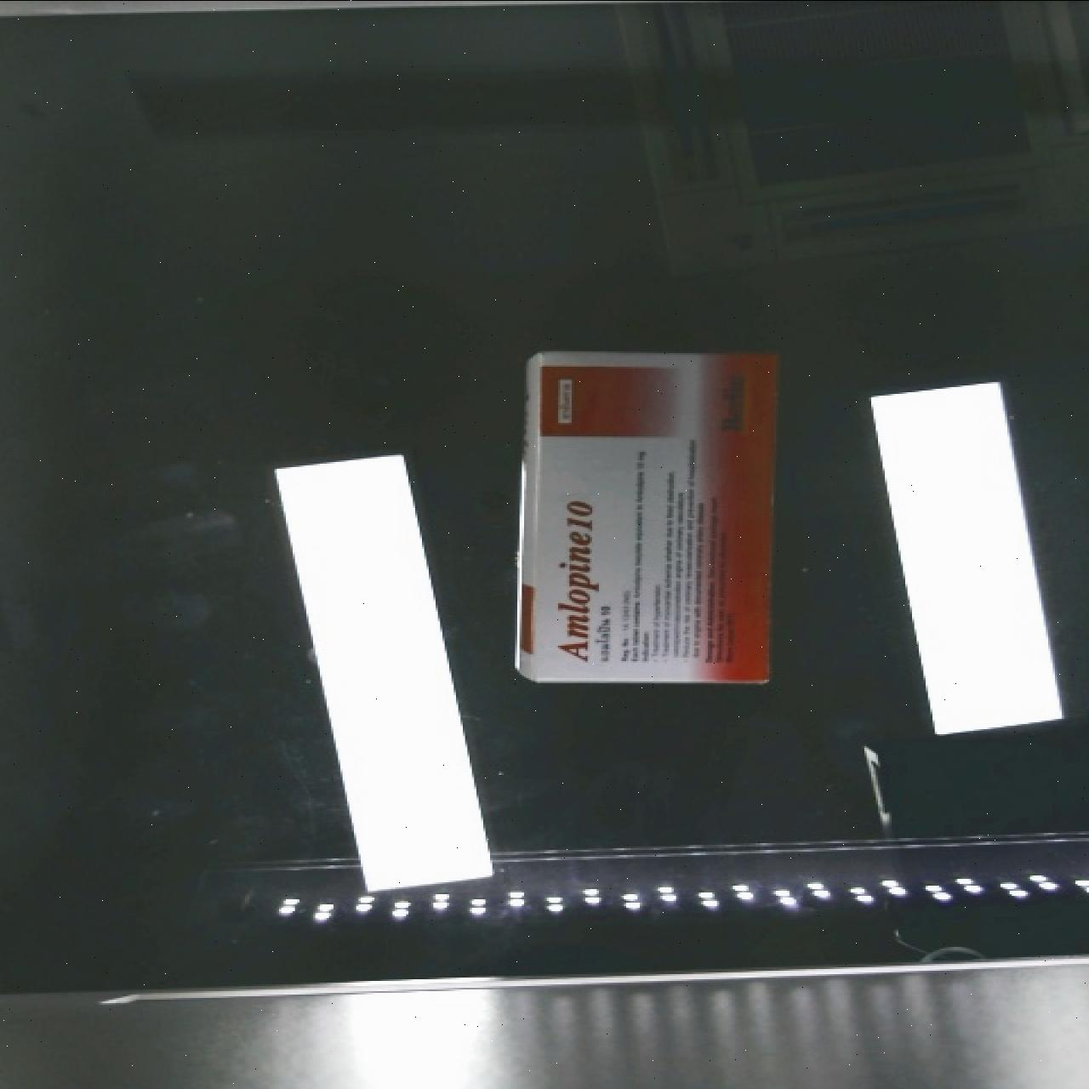medicine_label_obb: (545, 488, 612, 680)
